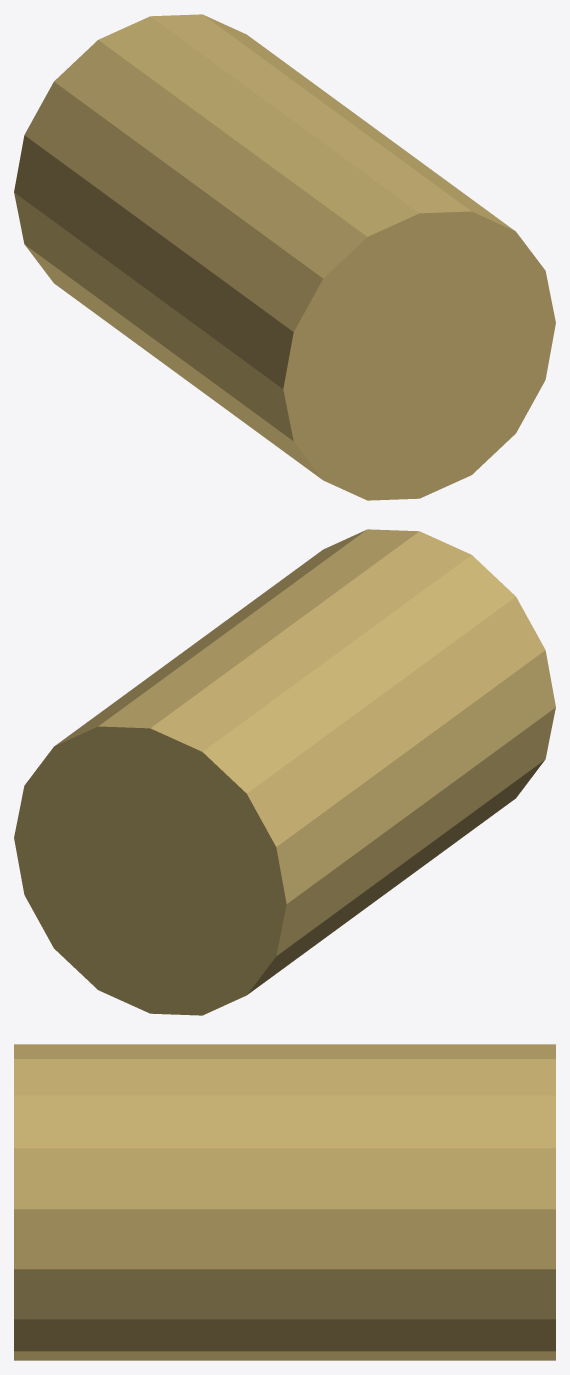
File: traffic_cone_v01.glb
The picture shows the model from 3 angles, top to bottom: view 1: azimuth 30°, elevation 25°; view 2: azimuth 150°, elevation 25°; view 3: azimuth 270°, elevation 25°; orthographic projection.
Visible parts, largest first — view 1: cylinder_0; view 2: cylinder_0; view 3: cylinder_0.
Boxes of the visible parts, x1=… form: cylinder_0: x1=14, y1=14, x2=555, y2=500; cylinder_0: x1=14, y1=529, x2=555, y2=1015; cylinder_0: x1=14, y1=1044, x2=555, y2=1360.
Size of the model in its own units: 0.38 by 0.38 by 0.65.
